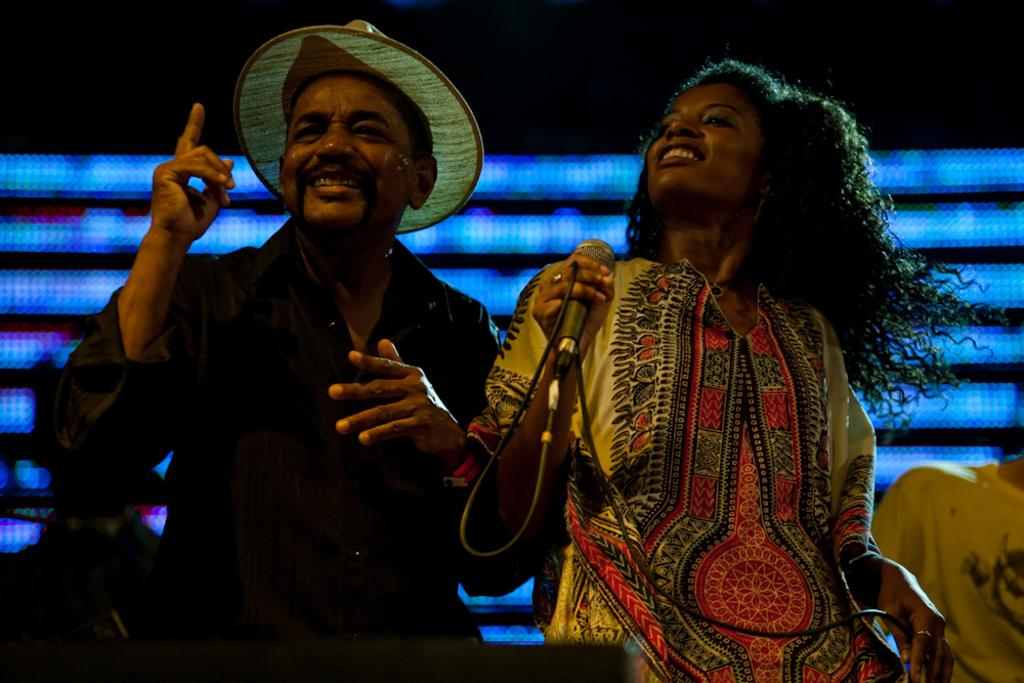Hat: (237, 18, 486, 235)
